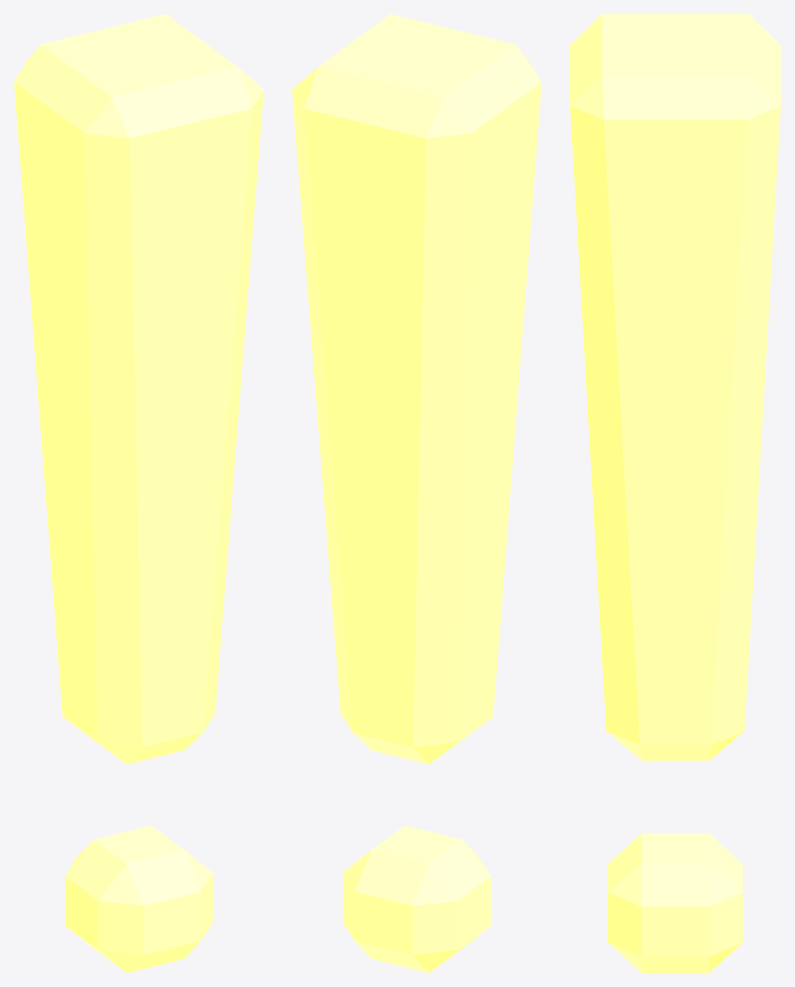
Rendered from free_rotation_indication.glb.
The picture shows the model from 3 angles, left to right: view 1: azimuth 30°, elevation 25°; view 2: azimuth 150°, elevation 25°; view 3: azimuth 270°, elevation 25°; orthographic projection.
Visible parts, largest first — view 1: Exclaimation Mark; view 2: Exclaimation Mark; view 3: Exclaimation Mark.
Part boxes in pixels (<box>): Exclaimation Mark: <box>14,14,263,972</box>; Exclaimation Mark: <box>292,14,541,972</box>; Exclaimation Mark: <box>570,14,780,972</box>.
Size of the model in its own units: 0.2568 by 1.23 by 0.2568.
1 material, 1 textured.
